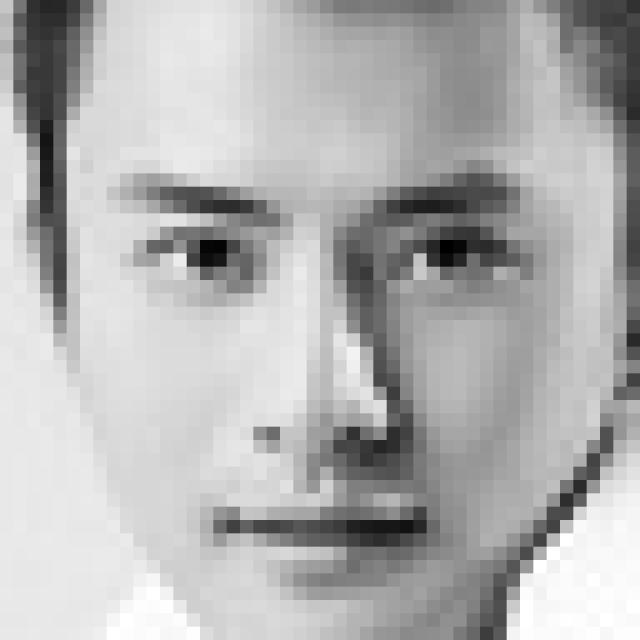neutral: (96, 156, 557, 603)
